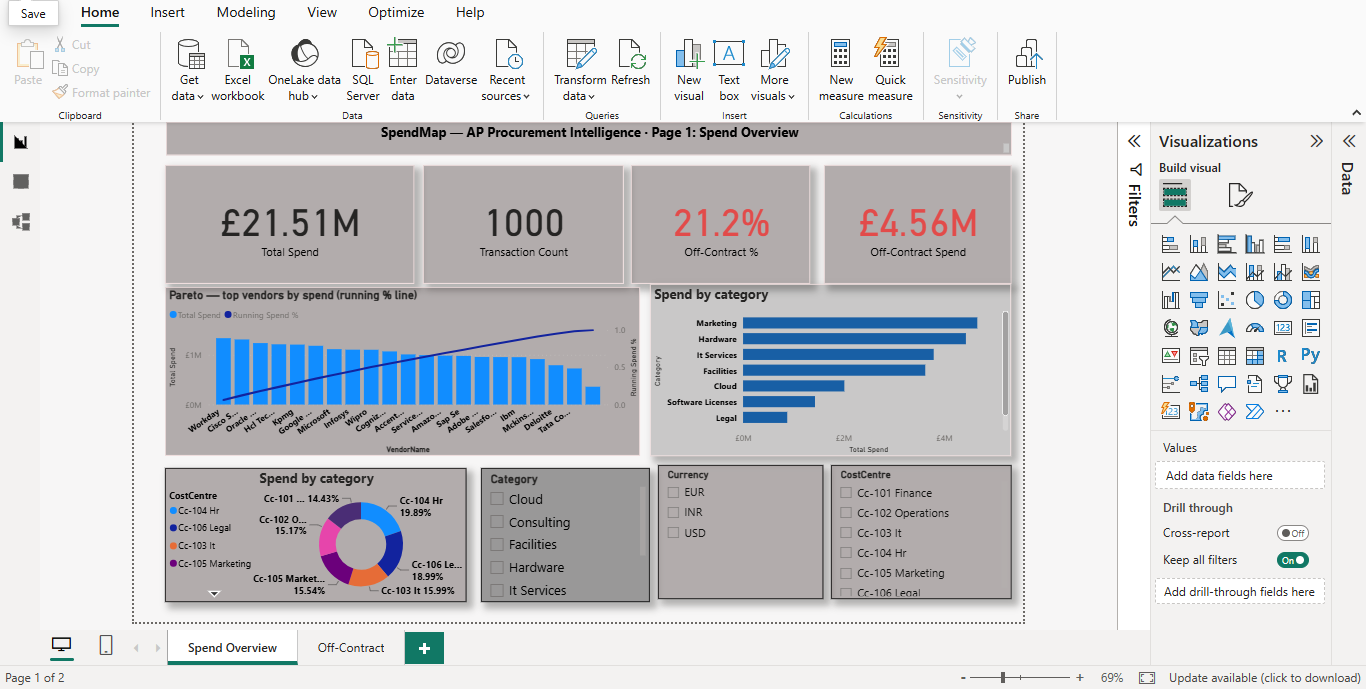

Layout of this report page (visuals, bound fields, positions):
{"tool":"powerbi","page":{"name":"Spend Overview","canvas":[1280,720],"ordinal":0},"visuals":[{"type":"card","fields":{"Values":["ap_transactions.Total Spend"]},"box":[45.3,62.1,359,171.1],"z":0},{"type":"card","fields":{"Values":["ap_transactions.Transaction Count"]},"box":[416,62.1,288.5,171.1],"z":1000},{"type":"card","fields":{"Values":["ap_transactions.Off-Contract %"]},"box":[716.3,62.1,258.3,171.1],"z":2000},{"type":"card","fields":{"Values":["ap_transactions.Off-Contract Spend"]},"box":[993.1,62.1,270.1,171.1],"z":3000},{"type":"lineClusteredColumnComboChart","title":"Pareto — top vendors by spend (running % line)","fields":{"Category":["ap_transactions.VendorName"],"Y":["ap_transactions.Total Spend"],"Y2":["ap_transactions.Running Spend %"]},"box":[45.3,238.2,684.5,243.3],"z":4000},{"type":"clusteredBarChart","title":"Spend by category","fields":{"Y":["ap_transactions.Total Spend"],"Category":["ap_transactions.Category"]},"box":[743.2,233.2,520.1,248.3],"z":5000},{"type":"donutChart","title":"Spend by category","fields":{"Y":["ap_transactions.Total Spend"],"Category":["ap_transactions.CostCentre"]},"box":[45.3,498.2,434.5,192.9],"z":6000},{"type":"textbox","title":"SpendMap — AP Procurement Intelligence · Page 1: Spend Overview","box":[46.1,0,1218.2,47.5],"z":7000},{"type":"slicer","title":"Spend by category","fields":{"Values":["ap_transactions.Category"]},"box":[499.9,498.2,243.3,192.9],"z":8000},{"type":"slicer","title":"Spend by category","fields":{"Values":["ap_transactions.Currency"]},"box":[754.9,493.2,238.2,192.9],"z":9000},{"type":"slicer","title":"Spend by category","fields":{"Values":["ap_transactions.CostCentre"]},"box":[1003.2,493.2,260,192.9],"z":10000}]}

Visuals, with their boxes on the page's 1280x720 design canvas (x1, y1, x2, y2). These are canvas units, not pixel positions in the 1366x689 screenshot, which may show the page scaled, cropped or inside an application window:
card - ap_transactions.Total Spend: box=[45, 62, 404, 233]
card - ap_transactions.Transaction Count: box=[416, 62, 704, 233]
card - ap_transactions.Off-Contract %: box=[716, 62, 975, 233]
card - ap_transactions.Off-Contract Spend: box=[993, 62, 1263, 233]
"Pareto — top vendors by spend (running % line)" lineClusteredColumnComboChart: box=[45, 238, 730, 482]
"Spend by category" clusteredBarChart: box=[743, 233, 1263, 482]
"Spend by category" donutChart: box=[45, 498, 480, 691]
"SpendMap — AP Procurement Intelligence · Page 1: Spend Overview" textbox: box=[46, 0, 1264, 48]
"Spend by category" slicer: box=[500, 498, 743, 691]
"Spend by category" slicer: box=[755, 493, 993, 686]
"Spend by category" slicer: box=[1003, 493, 1263, 686]
